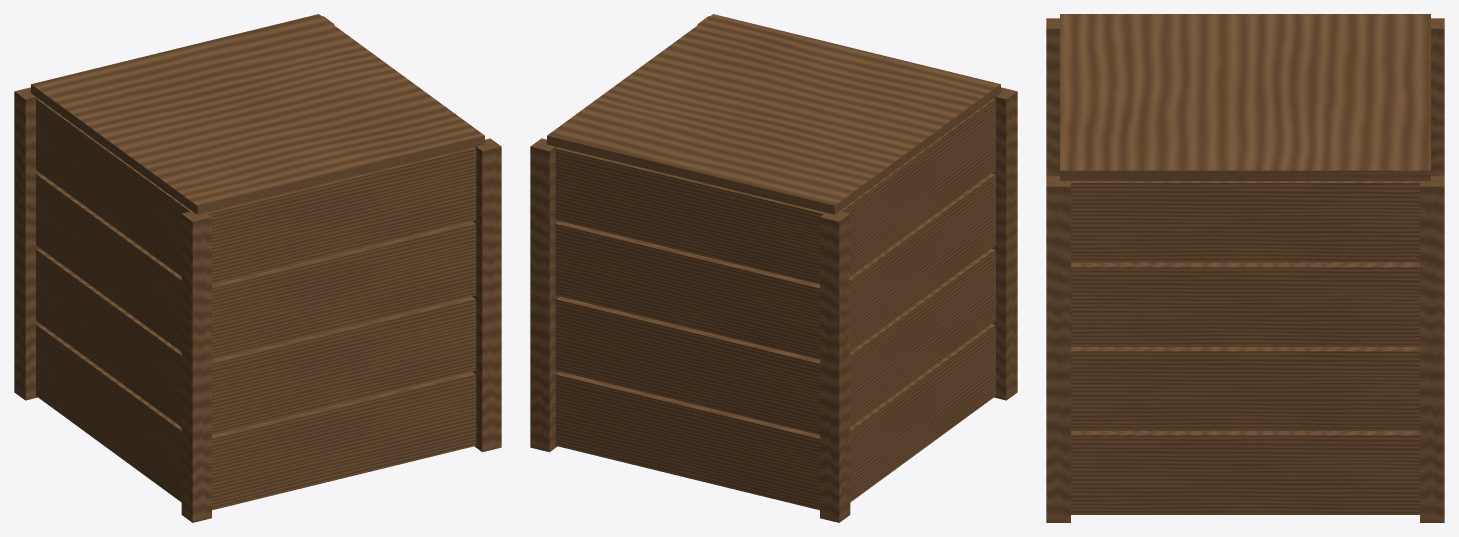
The model's file is crate_L0.glb.
The picture shows the model from 3 angles, left to right: view 1: azimuth 30°, elevation 25°; view 2: azimuth 150°, elevation 25°; view 3: azimuth 270°, elevation 25°; orthographic projection. The views are drawn at different scales.
Parts seen in each view (by area): view 1: crate:plank; view 2: crate:plank; view 3: crate:plank.
Boxes of the visible parts, x1,y1,x2,y2 form: crate:plank: (14, 14, 501, 522); crate:plank: (530, 14, 1017, 522); crate:plank: (1046, 14, 1444, 522).
Bounding box in the file's own units: 0.644 × 0.618 × 0.644.
Materials: 1 (1 with a texture image).
